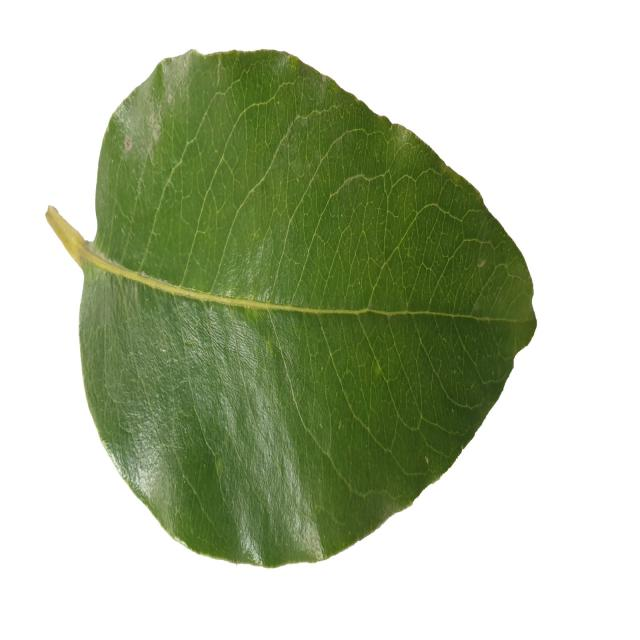Medicinal-Sandalwood: (47, 47, 537, 570)
